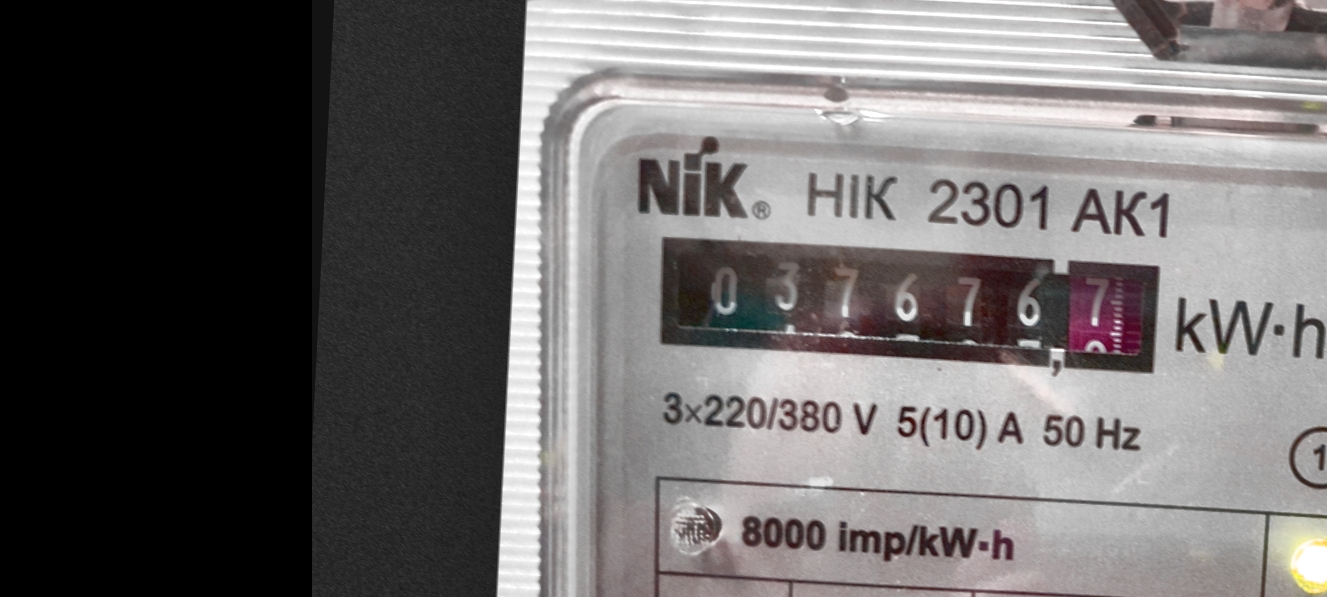0: (708, 261, 744, 318)
3: (771, 256, 801, 314)
6: (889, 267, 924, 323), (1013, 273, 1046, 329)
7: (951, 272, 985, 331), (829, 262, 862, 320), (1081, 272, 1112, 330)
screen: (641, 219, 1176, 392)
